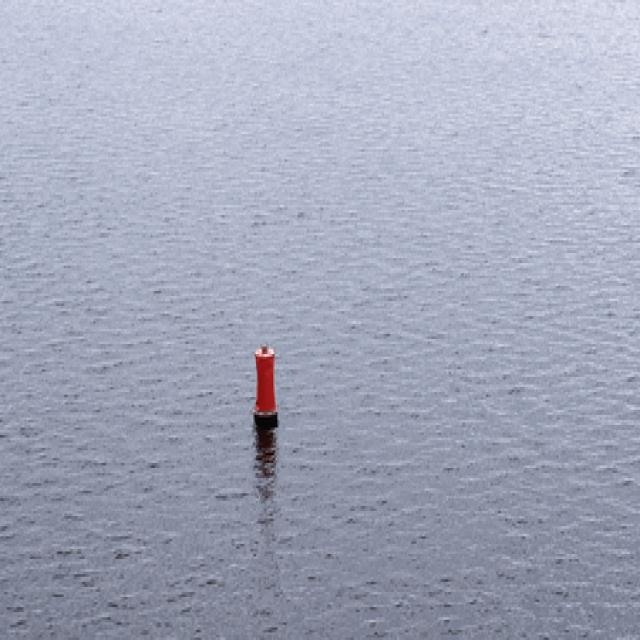Red Buoy: (257, 354, 276, 417)
